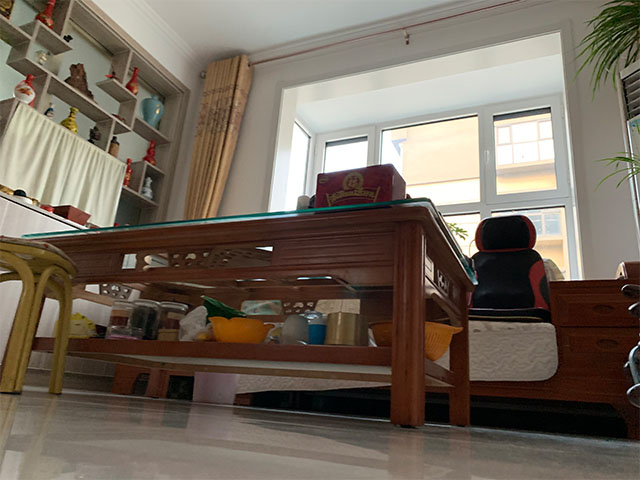curtain: (180, 49, 255, 220)
sofa: (470, 260, 640, 441)
stool: (1, 235, 81, 396)
table: (69, 197, 478, 426)
